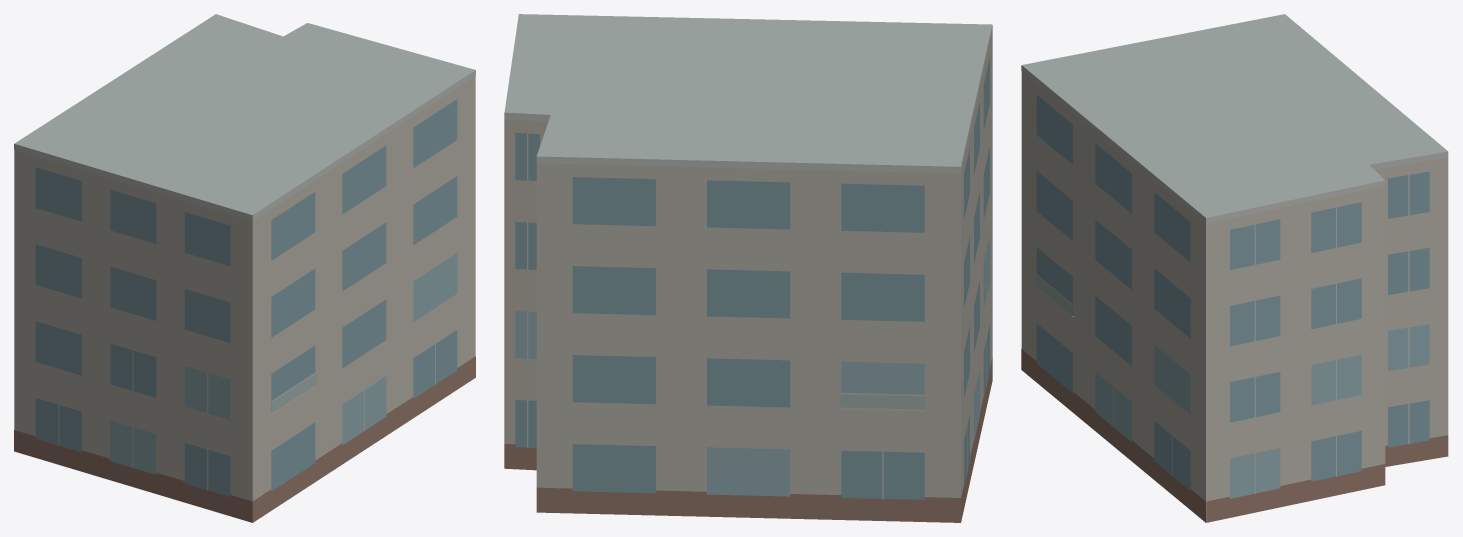
File: survey-upis-32809482.glb
The picture shows the model from 3 angles, left to right: view 1: azimuth 30°, elevation 25°; view 2: azimuth 150°, elevation 25°; view 3: azimuth 270°, elevation 25°; orthographic projection. The views are drawn at different scales.
Visible parts, largest first — view 1: survey-upis-32809482.tmp; view 2: survey-upis-32809482.tmp; view 3: survey-upis-32809482.tmp.
Part boxes in pixels (x1=…): survey-upis-32809482.tmp: x1=14, y1=14, x2=475, y2=522; survey-upis-32809482.tmp: x1=504, y1=14, x2=992, y2=522; survey-upis-32809482.tmp: x1=1021, y1=14, x2=1448, y2=522.
Bounding box in the file's own units: 18.37 × 12.8 × 16.25.
